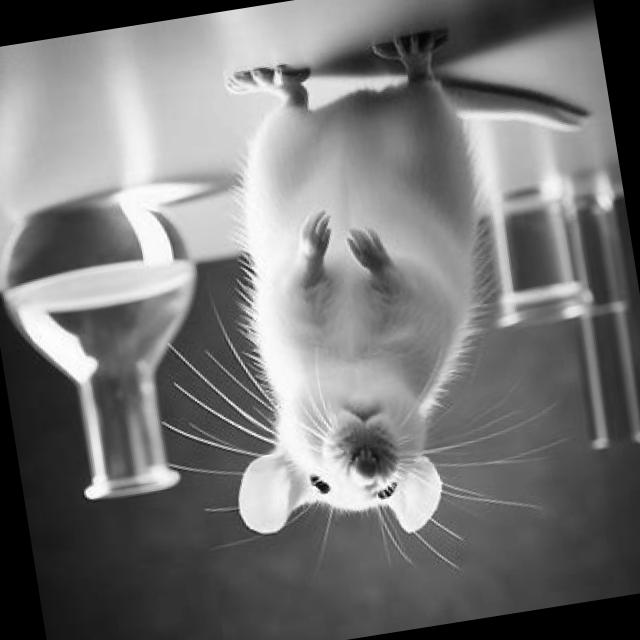rodent: (151, 4, 590, 566)
